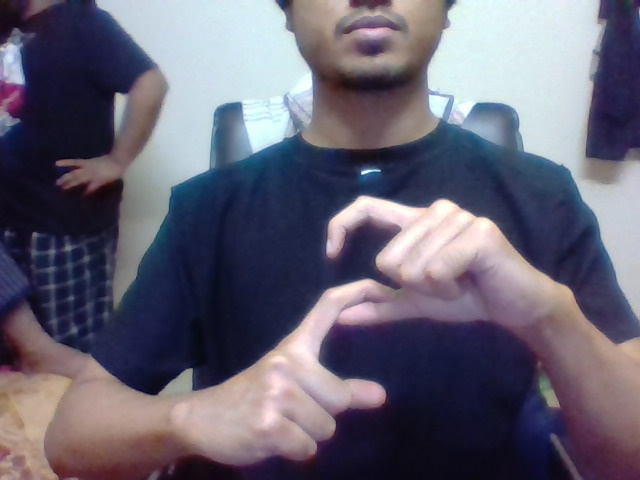S: (318, 191, 402, 411)
